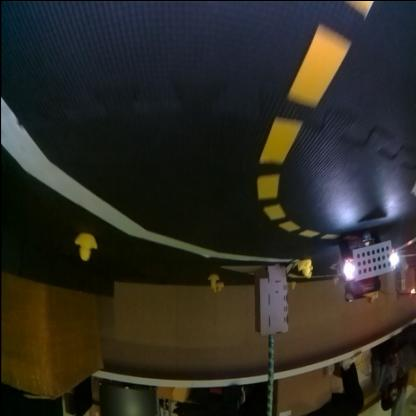Duckie: (76, 235, 96, 261), (298, 260, 310, 273), (208, 274, 219, 287), (216, 282, 224, 292)
Duckiebot: (342, 234, 396, 296)
